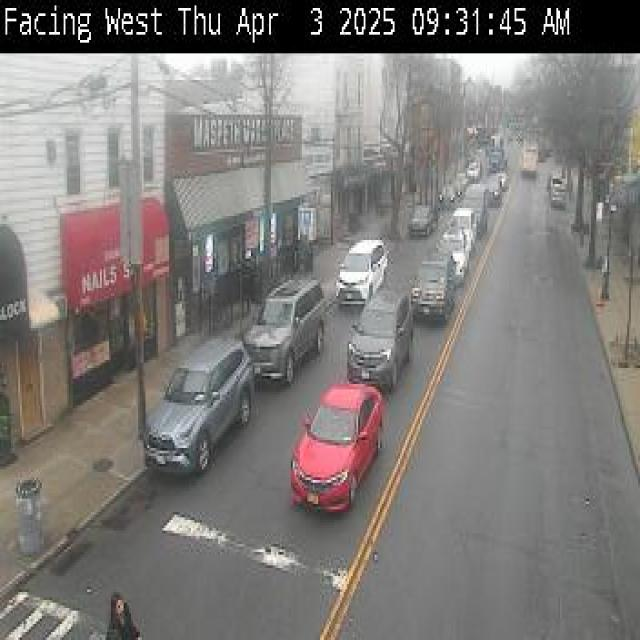open parking: (313, 269, 354, 339)
parkedCars: (154, 320, 258, 467), (246, 272, 323, 373), (338, 212, 384, 300)
